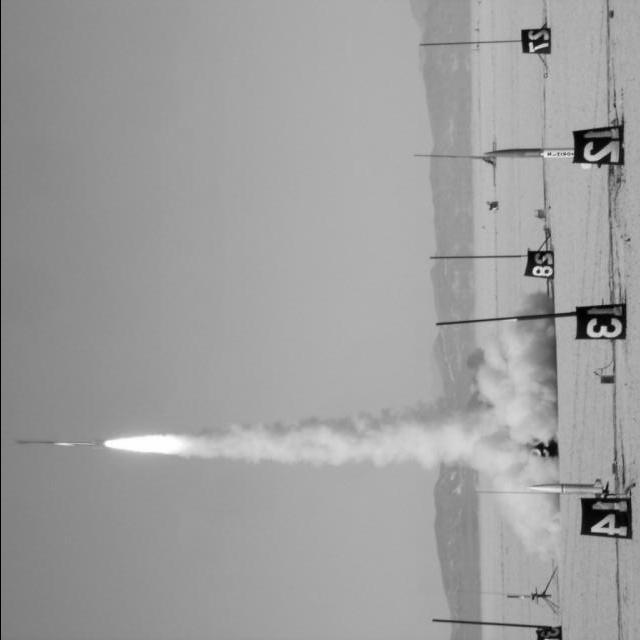missile: (478, 147, 607, 164), (8, 435, 104, 449)
